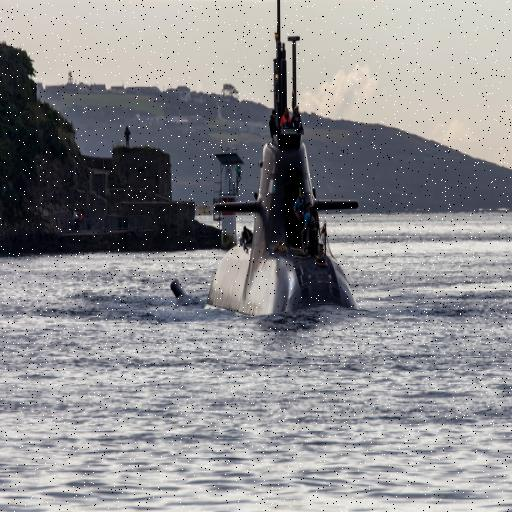submarine: (168, 129, 361, 315)
